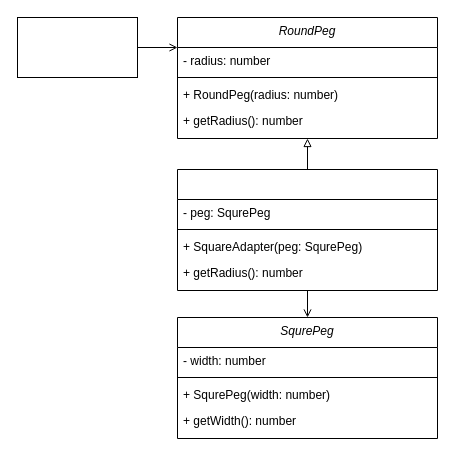
Some shapes in this 455 by 456 pixel diagram are drawn without their labels. The box of each missing label's shape, as (x1, y1, x2, y2) in pixels:
Client: (16, 16, 138, 78)
SqurePegAdapter: (176, 168, 438, 290)
